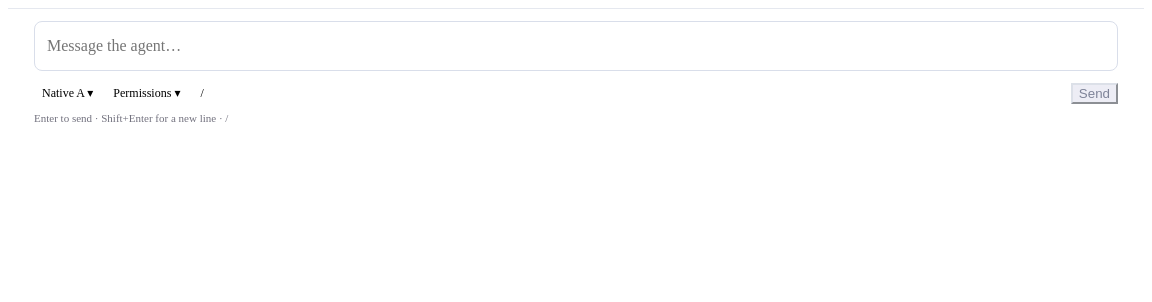
Test: composer provider controls › opens native model and permission settings without changing the draft or submitting input
Type "draft" into the text box. click: (576, 46)
box: [34,21,1118,71]
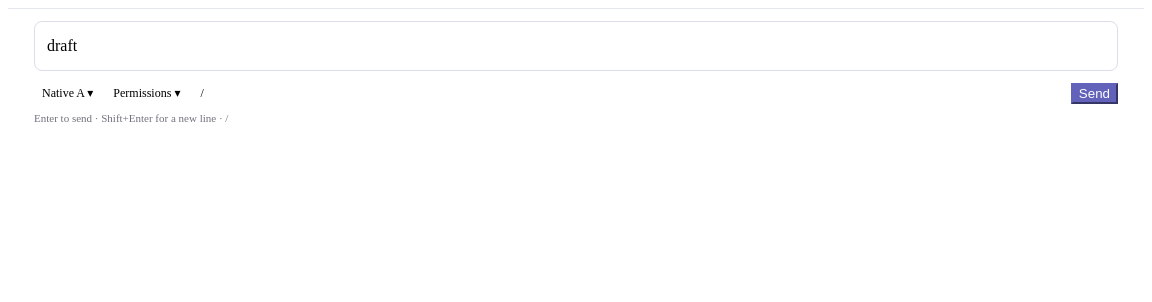
Click the button with aria-label "Model". click: (68, 94)
box: [34,80,101,107]
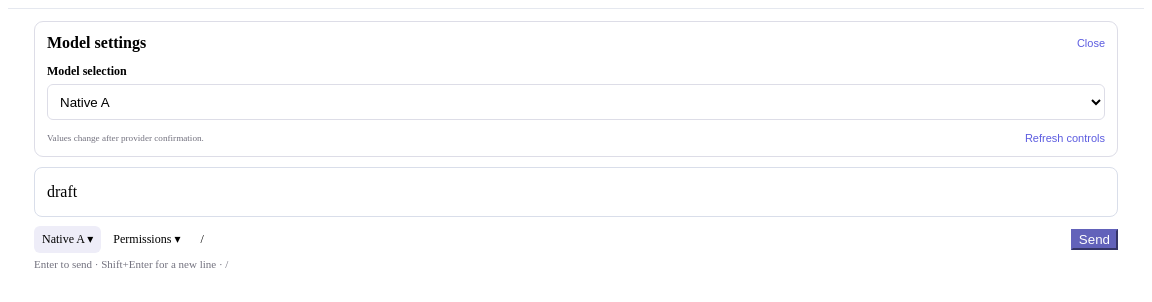
Select "Native B" in the dropdown labelled "Model selection". click: (576, 102)
box: [47,84,1105,120]
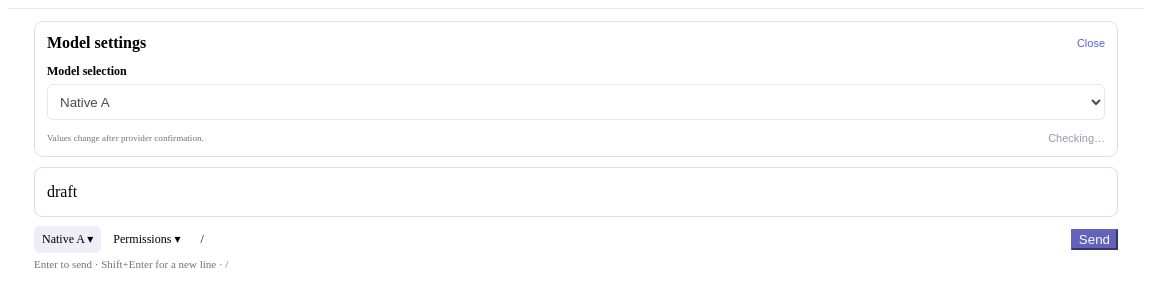
Click the button "Permissions ▾". click: (147, 240)
box: [105,226,188,253]
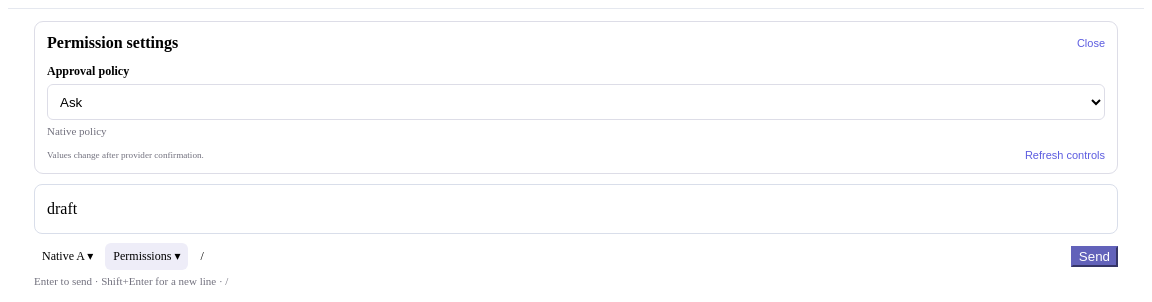
Expected: the dropdown labelled "Approval policy" shows "Ask", [47,84,1105,120]
